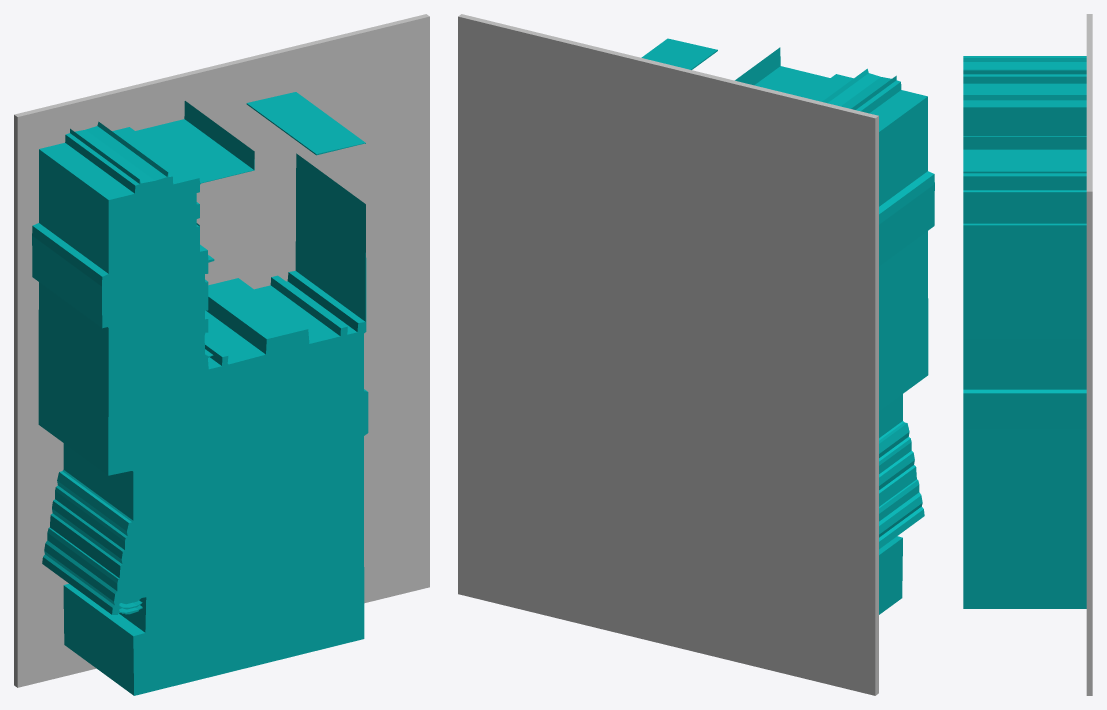
The picture shows the model from 3 angles, left to right: view 1: azimuth 30°, elevation 25°; view 2: azimuth 150°, elevation 25°; view 3: azimuth 270°, elevation 25°; orthographic projection. The views are drawn at different scales.
Visible parts, largest first — view 1: world; view 2: world; view 3: world.
Part boxes in pixels (bbox=[...]): world: bbox=[14, 14, 429, 695]; world: bbox=[458, 14, 934, 695]; world: bbox=[963, 14, 1092, 695].
Bounding box in the file's own units: 10.23 × 13.53 × 3.15.
